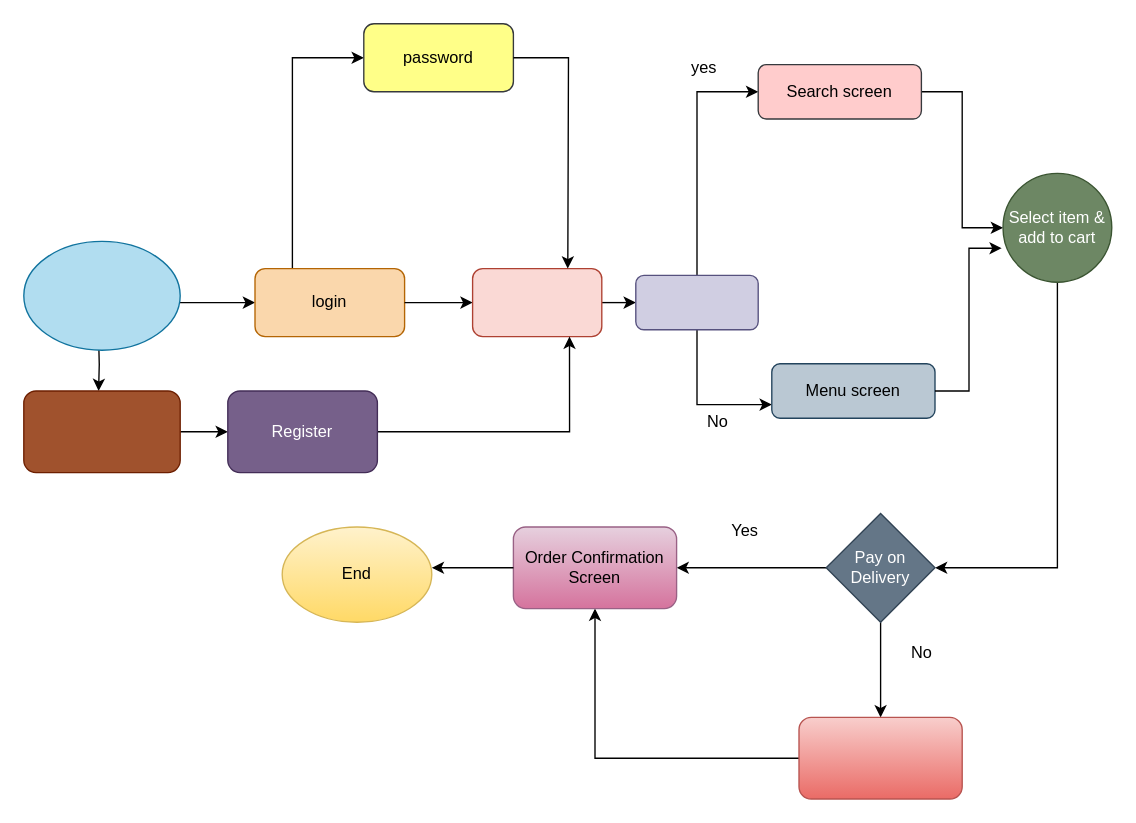
The diagram is 1136 pixels wide and 823 high, and some of its shapes have lost their labels. The shapes that lost their labels are listed below. From the top down, each one's box as (x1, y1, x2, y2) in pixels, then its label:
(22, 240, 180, 350): Start
(471, 267, 602, 337): Home Screen
(634, 274, 758, 330): Use search
(22, 390, 180, 473): signup
(798, 716, 962, 799): Enter Payment details
